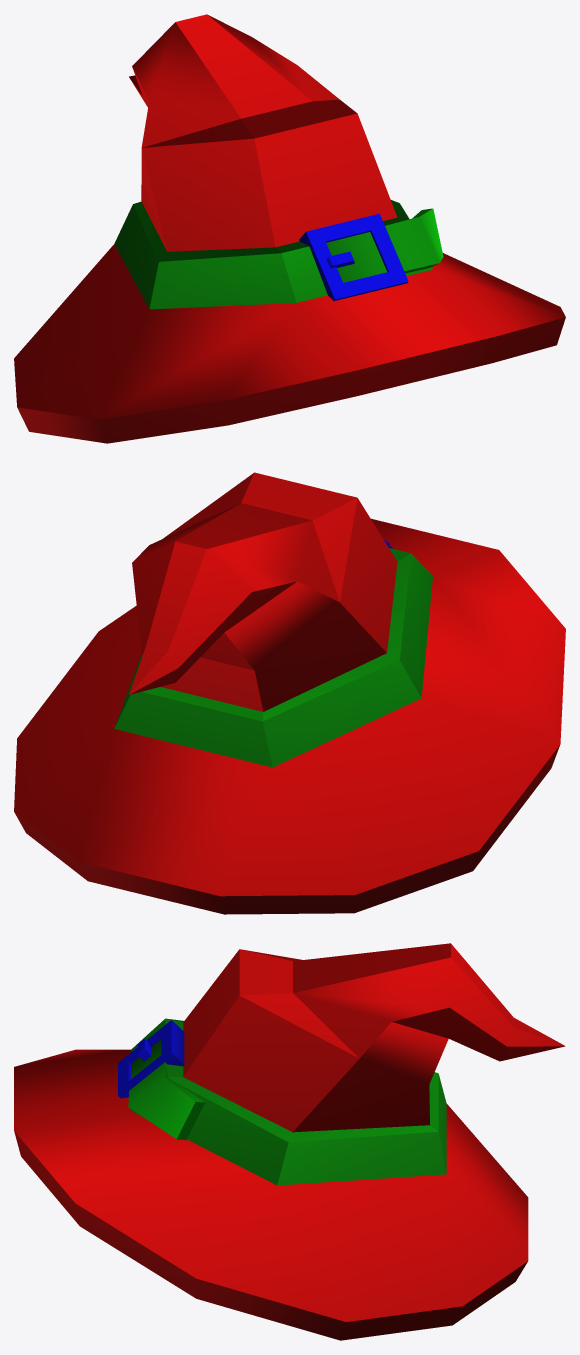
The picture shows the model from 3 angles, top to bottom: view 1: azimuth 30°, elevation 25°; view 2: azimuth 150°, elevation 25°; view 3: azimuth 270°, elevation 25°; orthographic projection. The views are drawn at different scales.
Parts seen in each view (by area): view 1: MageHat_A; view 2: MageHat_A; view 3: MageHat_A.
Part boxes in pixels (x1,y1,x2,y2): MageHat_A: [14, 14, 565, 443]; MageHat_A: [14, 472, 565, 914]; MageHat_A: [14, 943, 565, 1340].
Size of the model in its own units: 0.4712 by 0.319 by 0.5297.
1 material, 1 textured.
